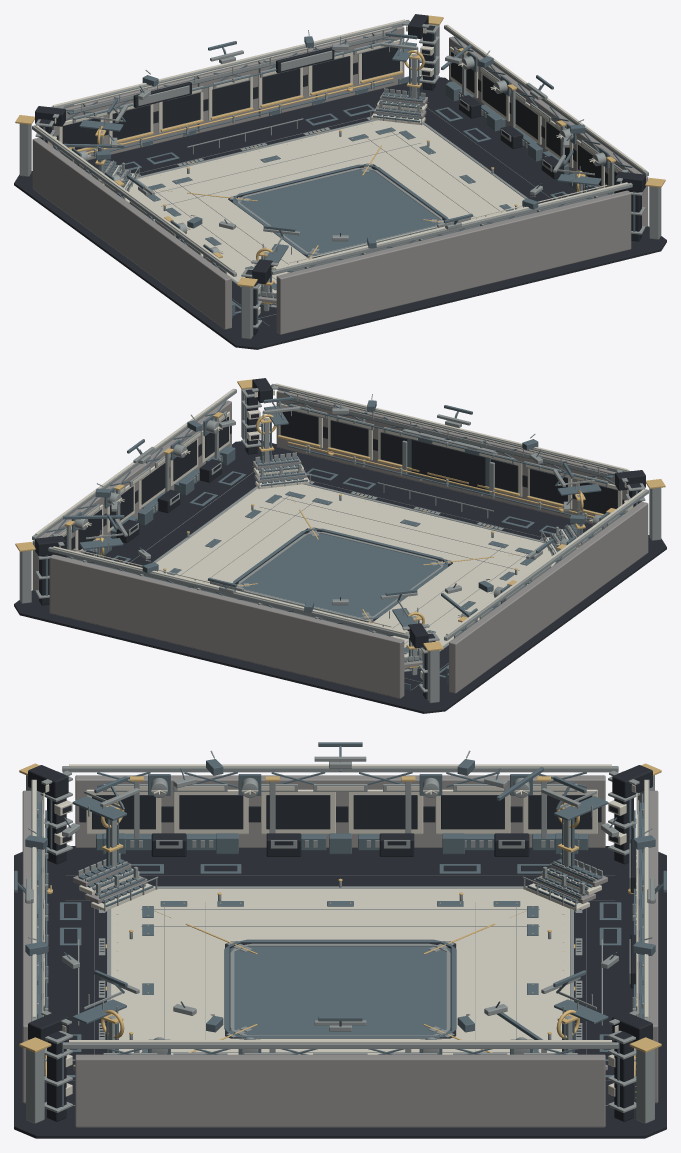
Rendered from SM_BobStadium_Structure.glb.
3 views of the same model, one above another, from view 1: azimuth 30°, elevation 25°; view 2: azimuth 150°, elevation 25°; view 3: azimuth 270°, elevation 25° (orthographic). The views are drawn at different scales.
Parts seen in each view (by area): view 1: SM_BobStadium_Structure; view 2: SM_BobStadium_Structure; view 3: SM_BobStadium_Structure.
Part boxes in pixels (x1,y1,x2,y2): SM_BobStadium_Structure: (14,14,666,349); SM_BobStadium_Structure: (14,378,666,713); SM_BobStadium_Structure: (14,742,666,1138).
Size of the model in its own units: 42.4 by 8.68 by 40.4.
